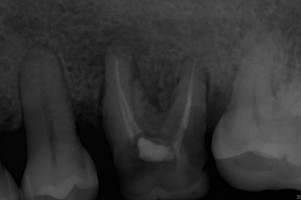Dental Caries: (58, 20, 187, 112)
